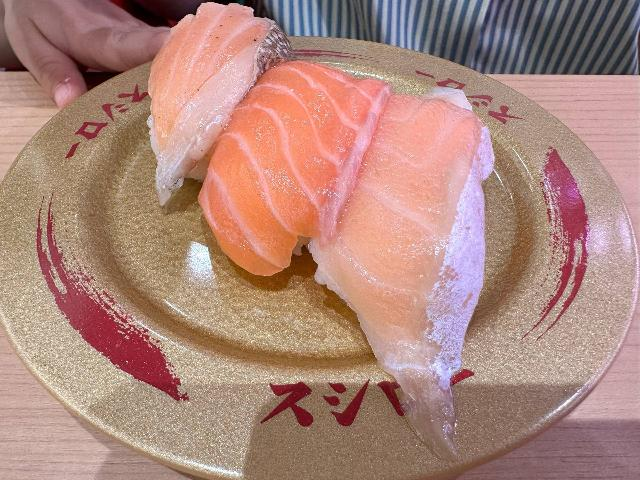jangold: (490, 69, 633, 480), (0, 118, 169, 461), (162, 243, 379, 480), (304, 25, 508, 90)
